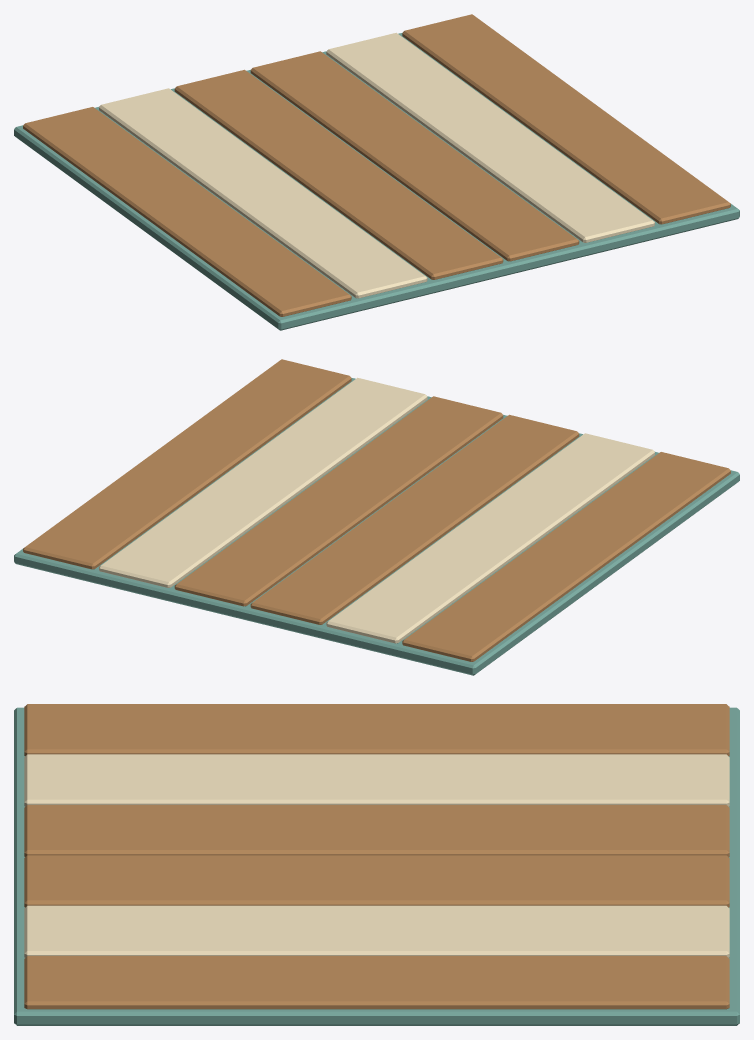
3 views of the same model, one above another, from view 1: azimuth 30°, elevation 25°; view 2: azimuth 150°, elevation 25°; view 3: azimuth 270°, elevation 25° (orthographic). The views are drawn at different scales.
Parts seen in each view (by area): view 1: dining-plank-floor-01; view 2: dining-plank-floor-01; view 3: dining-plank-floor-01.
Boxes of the visible parts, x1=… form: dining-plank-floor-01: x1=14, y1=14, x2=739, y2=330; dining-plank-floor-01: x1=14, y1=359, x2=739, y2=675; dining-plank-floor-01: x1=14, y1=704, x2=739, y2=1025.
Bounding box in the file's own units: 1.4 × 0.045 × 1.4.
